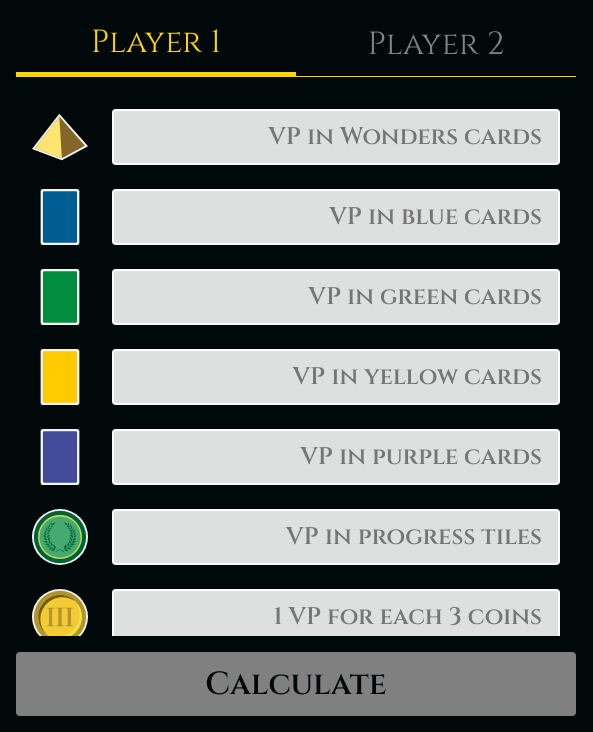
Scorepad › calculate winner › shows winner when Calculate is clicked with different totals
Type "10" into the number field with placeholder "VP in Wonders cards" at (336, 137), box [112, 109, 560, 165]
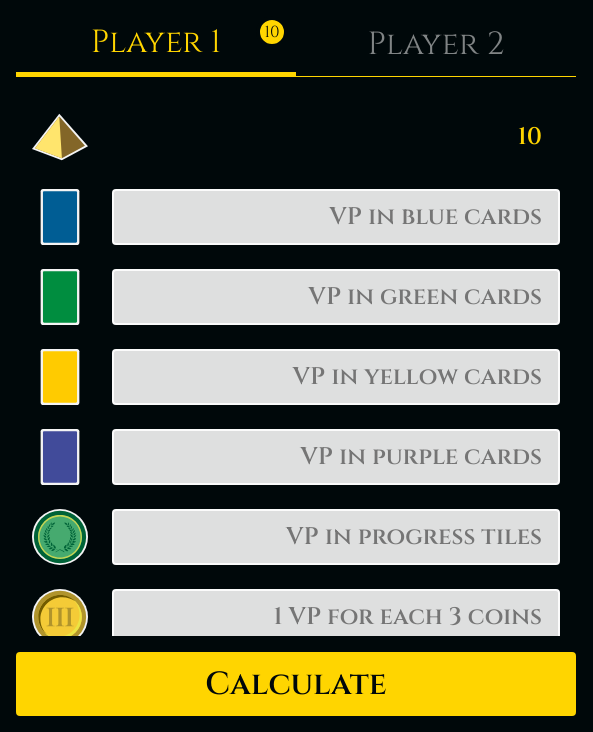
Click the button "Calculate" at (296, 684), box [16, 652, 576, 716]
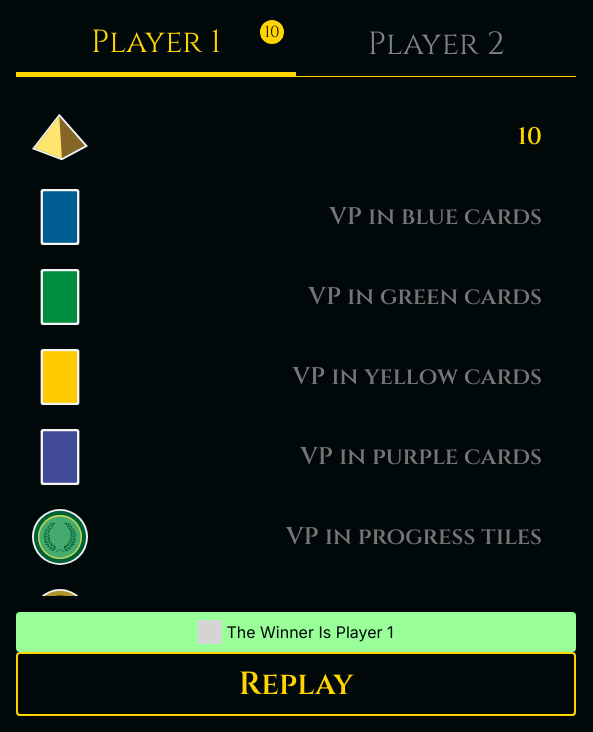
Result: the text "The winner is Player 1" is shown at [16, 612, 576, 652]
